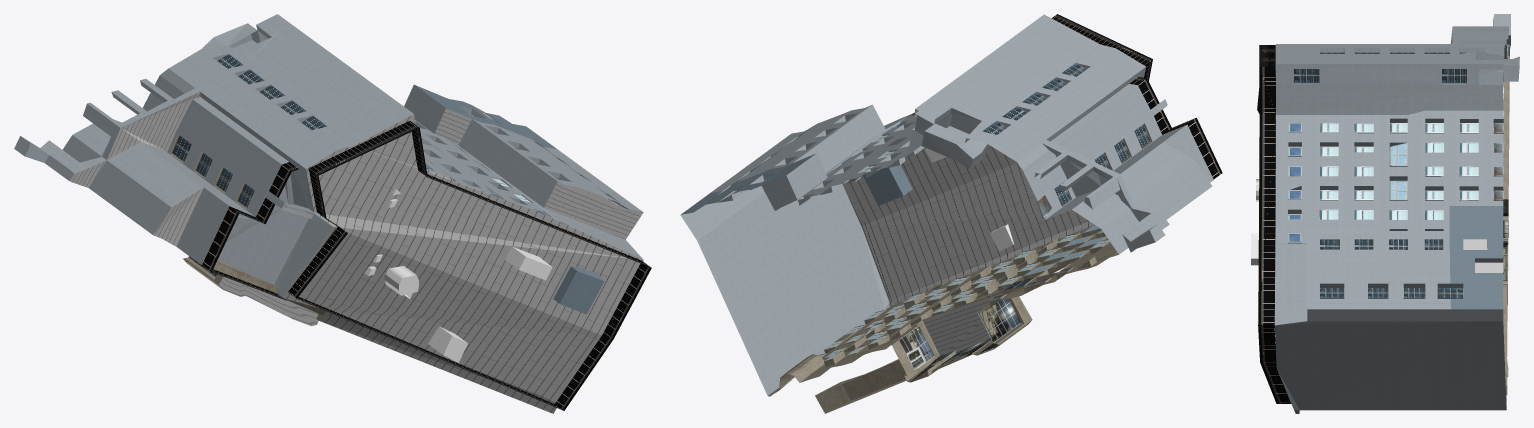
File: Tp4_b-origo.obj
The picture shows the model from 3 angles, left to right: view 1: azimuth 30°, elevation 25°; view 2: azimuth 150°, elevation 25°; view 3: azimuth 270°, elevation 25°; orthographic projection. The views are drawn at different scales.
Parts seen in each view (by area): view 1: Toompuiestee_4b; view 2: Toompuiestee_4b; view 3: Toompuiestee_4b.
Part boxes in pixels (left/top/right/bottom): Toompuiestee_4b: left=14, top=14, right=651, bottom=413; Toompuiestee_4b: left=680, top=14, right=1222, bottom=413; Toompuiestee_4b: left=1251, top=14, right=1519, bottom=413.
Bounding box in the file's own units: 46.06 × 30 × 25.34.
